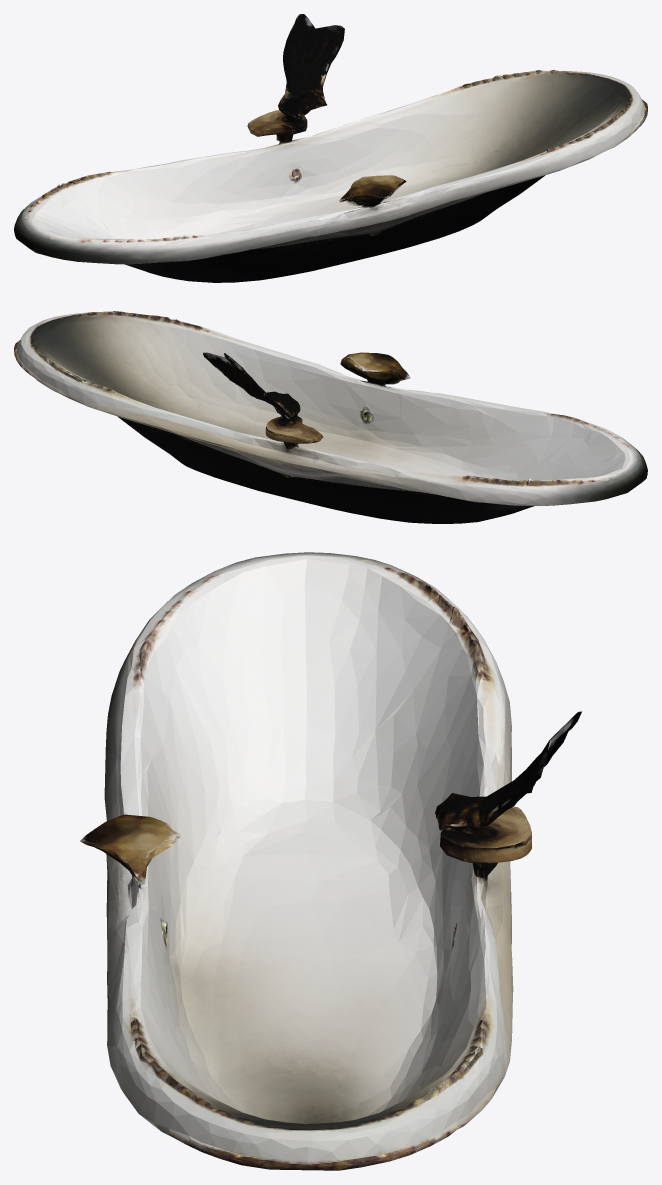
Rendered from ceramic-bathroom-tile-art-deco.jpeg.glb.
3 views of the same model, one above another, from view 1: azimuth 30°, elevation 25°; view 2: azimuth 150°, elevation 25°; view 3: azimuth 270°, elevation 25° (orthographic). The views are drawn at different scales.
Visible parts, largest first — view 1: world; view 2: world; view 3: world.
Boxes of the visible parts, x1,y1,x2,y2 form: world: (14, 14, 647, 282); world: (14, 311, 647, 523); world: (80, 552, 581, 1170).
Size of the model in its own units: 1 by 0.2579 by 0.3557.
1 material, 1 textured.
